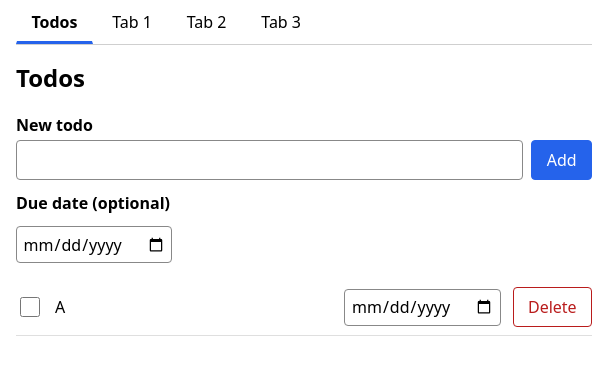
Test: UI20 delete › UI20 on failure the li stays and #status shows the error
Click the button with class "delete" at (552, 307), box x1=513 y1=287 x2=592 y2=327
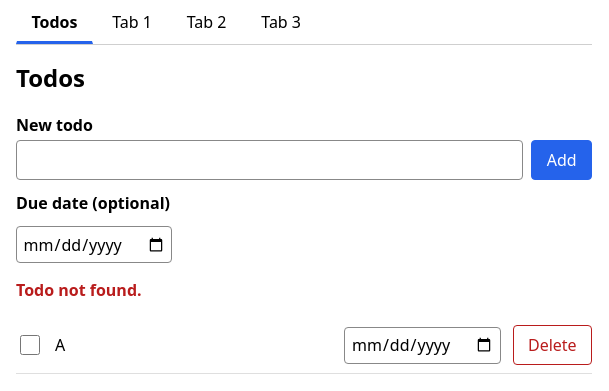
Expected: the message with id "status" reads "Todo not found.", x1=16 y1=279 x2=142 y2=301
